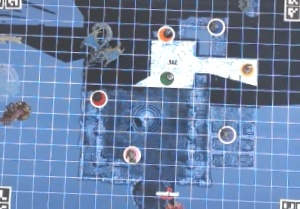blue: (205, 14, 228, 40)
green: (152, 69, 177, 90)
orange: (155, 23, 176, 42)
pink: (119, 143, 144, 165)
red: (89, 86, 110, 108)
violet: (217, 125, 238, 146)
yellow: (239, 59, 256, 78)
